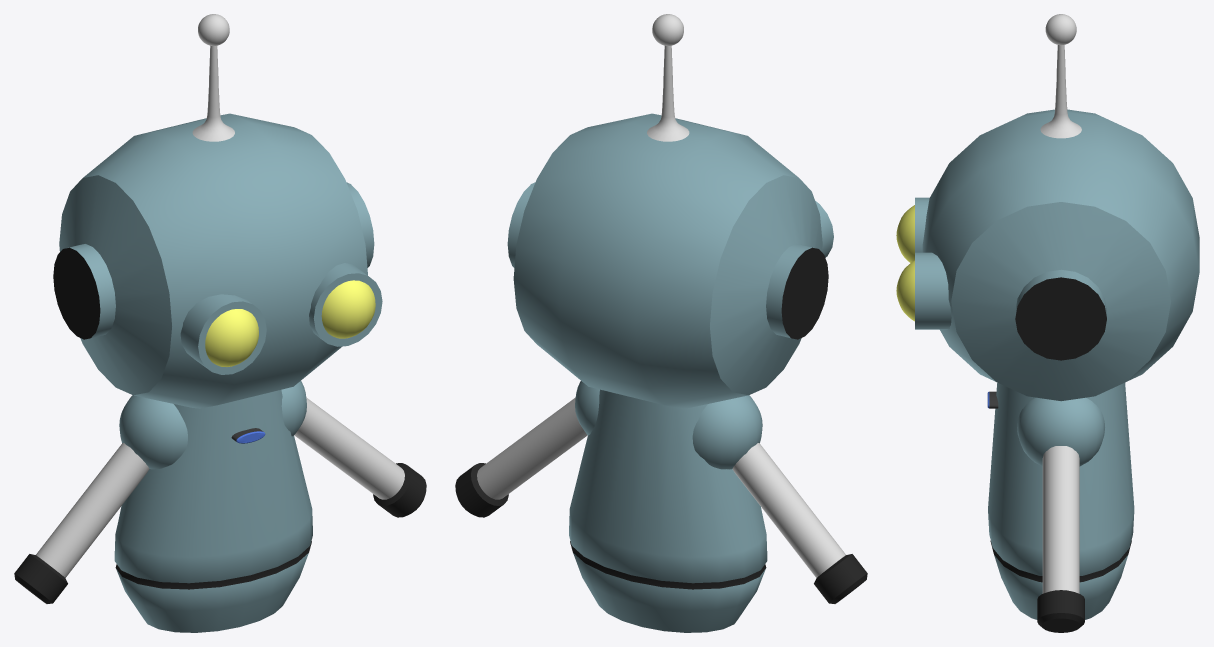
The model's file is BlueBot.fbx.
The picture shows the model from 3 angles, left to right: view 1: azimuth 30°, elevation 25°; view 2: azimuth 150°, elevation 25°; view 3: azimuth 270°, elevation 25°; orthographic projection. The views are drawn at different scales.
Parts seen in each view (by area): view 1: pCylinder1, pCylinder3, pCylinder4, pCylinder5, pCylinder2, pSphere4, pCylinder7, pSphere2, pSphere1, pCylinder8, pCylinder6, pSphere3 (+1 smaller); view 2: pCylinder1, pCylinder3, pCylinder4, pCylinder5, pCylinder2, pSphere4, pCylinder6, pSphere3, pSphere5; view 3: pCylinder1, pCylinder3, pCylinder5, pCylinder2, pSphere3, pCylinder8, pCylinder6, pSphere2, pSphere1, pSphere5, pCylinder7.
Boxes of the visible parts, x1,y1,x2,y2 form: pCylinder1: (59, 113, 367, 408); pCylinder3: (114, 390, 312, 632); pCylinder4: (14, 443, 149, 603); pCylinder5: (294, 397, 426, 517); pCylinder2: (53, 182, 374, 339); pSphere4: (119, 395, 187, 469); pCylinder7: (180, 294, 266, 374); pSphere2: (321, 280, 375, 338); pSphere1: (205, 309, 258, 366); pCylinder8: (309, 263, 382, 346); pCylinder6: (192, 45, 234, 141); pSphere3: (281, 381, 306, 436); pCylinder1: (513, 113, 822, 408); pCylinder3: (569, 389, 767, 632); pCylinder4: (732, 443, 867, 603); pCylinder5: (455, 397, 587, 517); pCylinder2: (507, 182, 828, 339); pSphere4: (692, 395, 762, 469); pCylinder6: (647, 45, 689, 141); pSphere3: (575, 381, 599, 435); pSphere5: (652, 14, 683, 45); pCylinder1: (922, 109, 1199, 401); pCylinder3: (988, 382, 1134, 619); pCylinder5: (1037, 446, 1084, 632); pCylinder2: (1015, 269, 1106, 360); pSphere3: (1017, 397, 1104, 466); pCylinder8: (915, 252, 951, 329); pCylinder6: (1040, 45, 1081, 138); pSphere2: (896, 260, 914, 321); pSphere1: (896, 205, 914, 262); pSphere5: (1045, 14, 1076, 45); pCylinder7: (915, 197, 929, 252).
Size of the model in its own units: 3.28 by 4.7 by 2.19.
